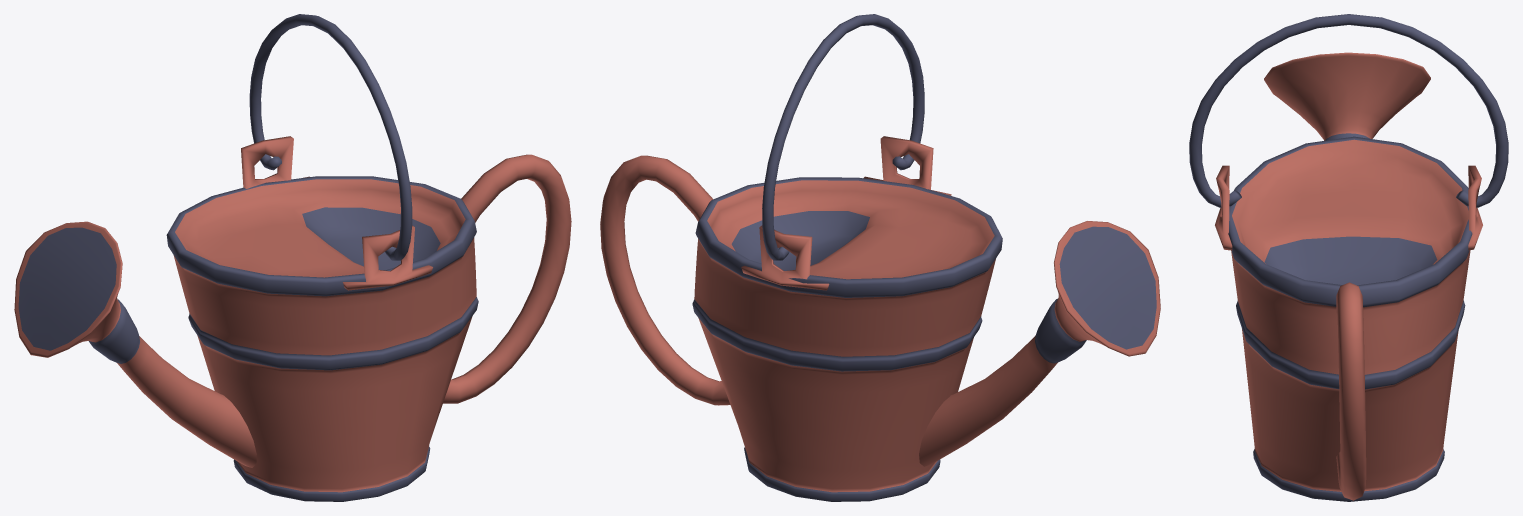
File: Watering.fbx
3 views of the same model, side by side, from view 1: azimuth 30°, elevation 25°; view 2: azimuth 150°, elevation 25°; view 3: azimuth 270°, elevation 25° (orthographic).
Visible parts, largest first — view 1: Watering; view 2: Watering; view 3: Watering.
Part boxes in pixels (x1,y1,x2,y2): Watering: [14, 14, 571, 501]; Watering: [600, 14, 1160, 501]; Watering: [1189, 14, 1508, 501].
Size of the model in its own units: 60.36 by 46.71 by 30.35.
